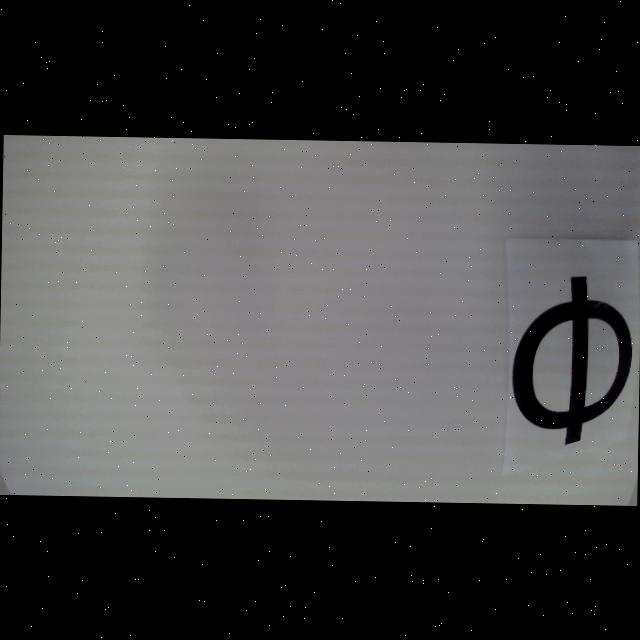PHI: (511, 274, 634, 445)
